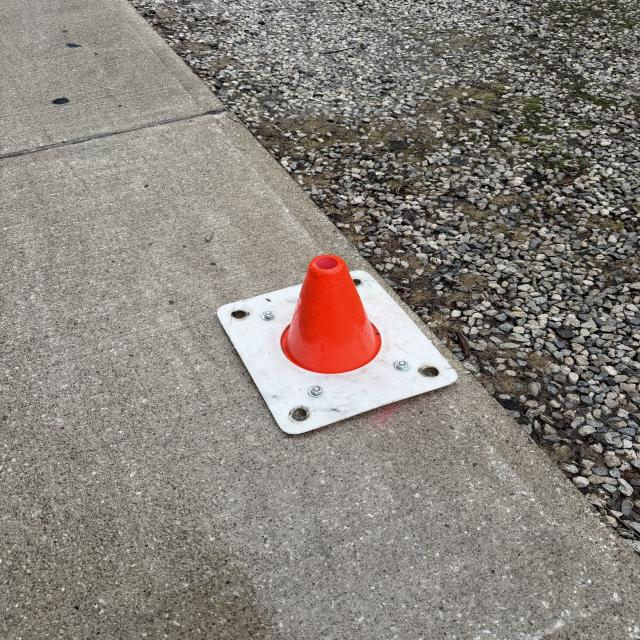Traffic Cone: (216, 254, 460, 436)
